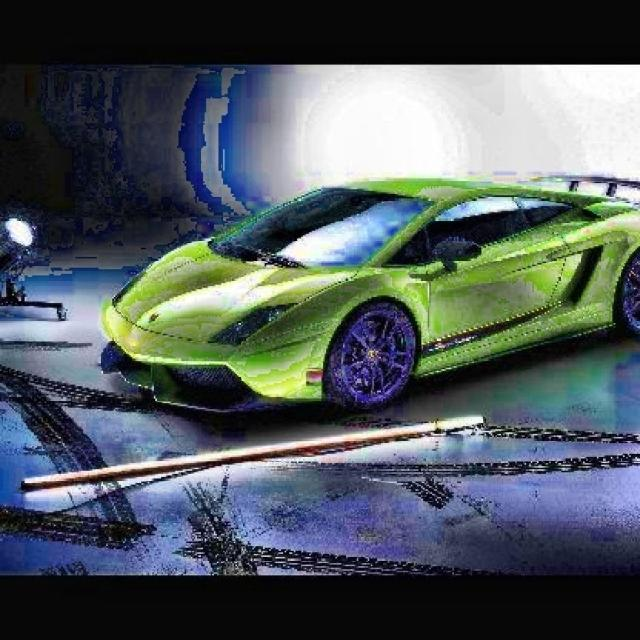green: (104, 180, 640, 407)
